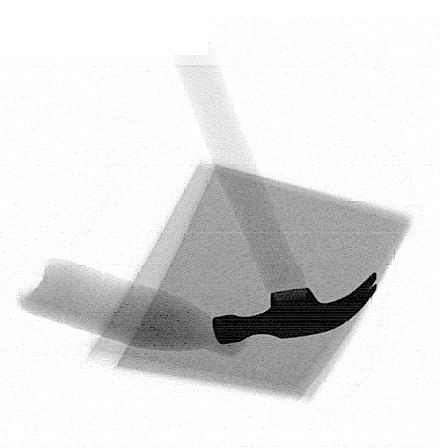Hammer: (175, 43, 378, 345)
